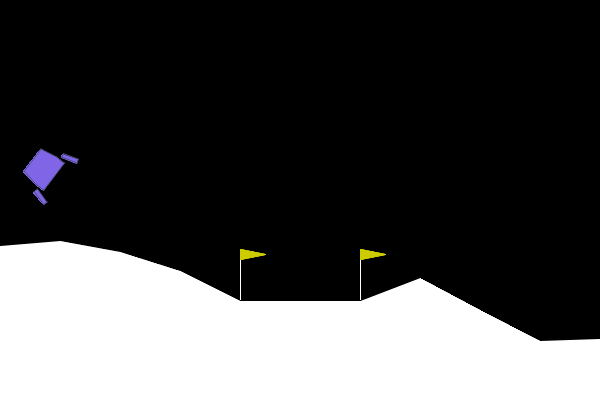lander: (12, 136, 81, 207)
